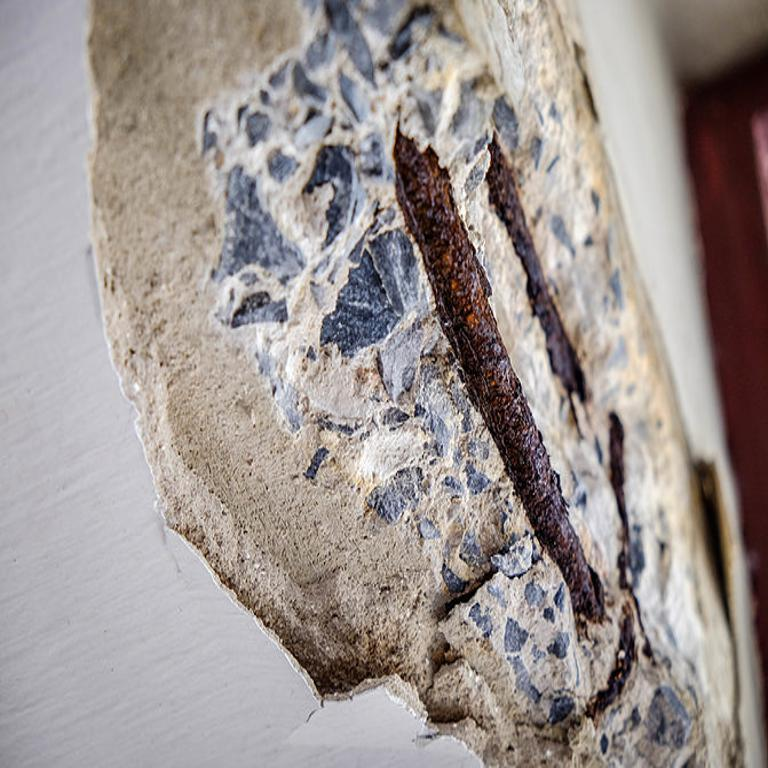exposed_rebar: (394, 129, 604, 623), (486, 135, 586, 402), (693, 460, 730, 626), (586, 602, 636, 718), (609, 412, 632, 590)
spalling: (86, 0, 748, 768)
